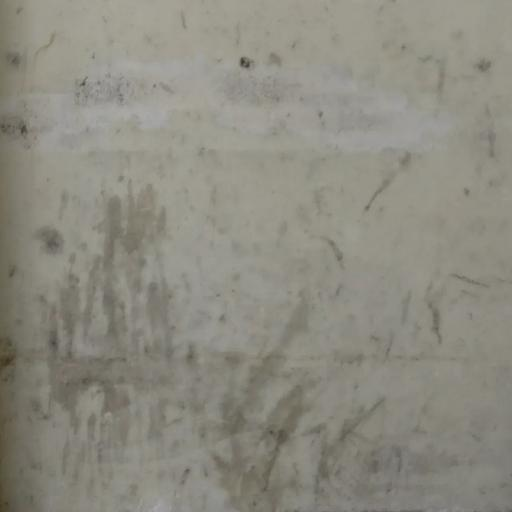stain: (38, 131, 512, 512)
